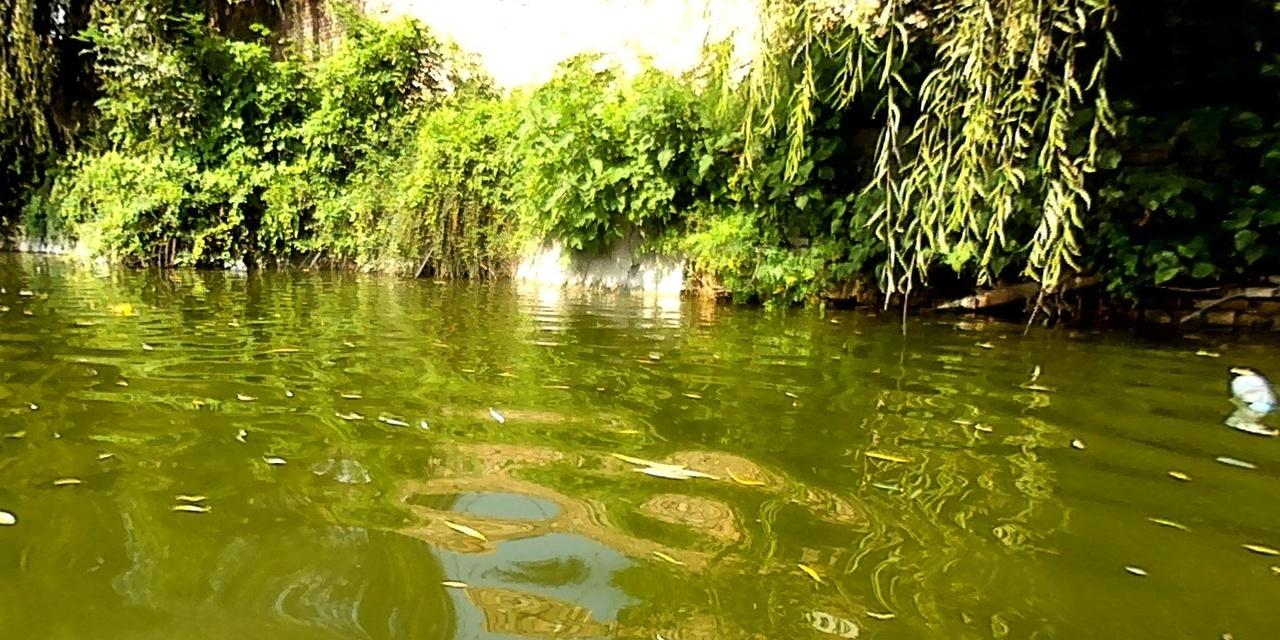bottle: (1228, 372, 1277, 424)
